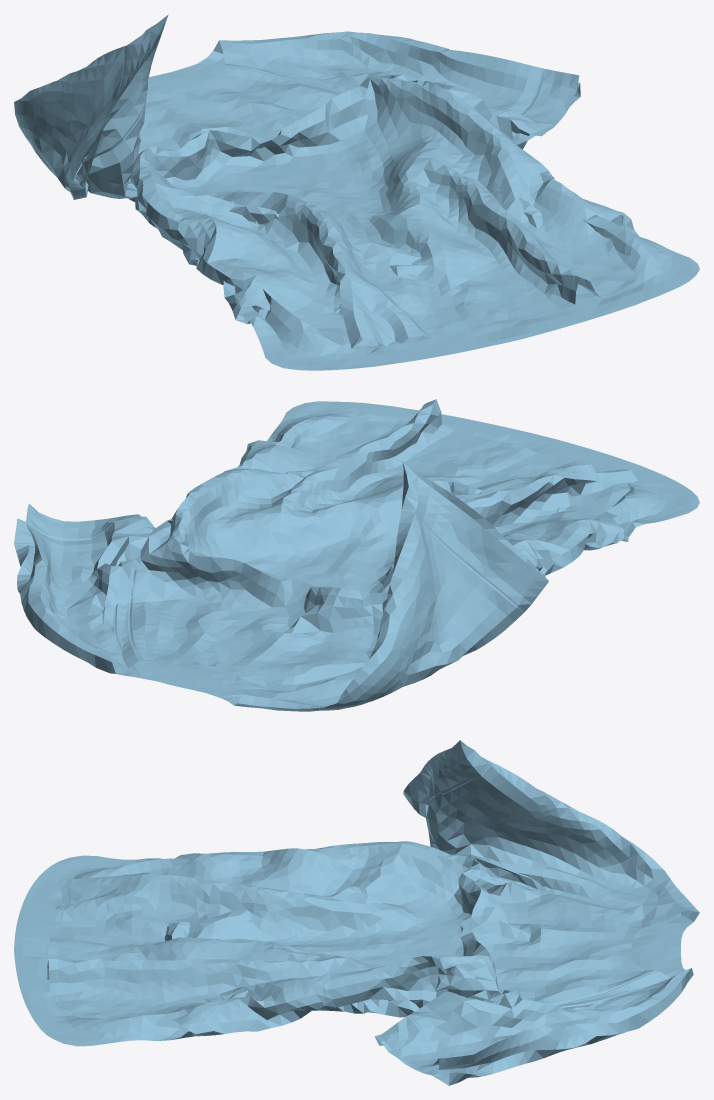
Rendered from frame_12.glb.
3 views of the same model, one above another, from view 1: azimuth 30°, elevation 25°; view 2: azimuth 150°, elevation 25°; view 3: azimuth 270°, elevation 25° (orthographic). The views are drawn at different scales.
Visible parts, largest first — view 1: frame_12.obj; view 2: frame_12.obj; view 3: frame_12.obj.
Boxes of the visible parts, x1,y1,x2,y2 form: frame_12.obj: (14,14,699,370); frame_12.obj: (14,399,699,711); frame_12.obj: (14,740,699,1085).
Bounding box in the file's own units: 1.52 × 0.497 × 1.83.
